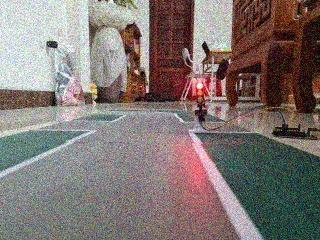red: (191, 78, 210, 115)
